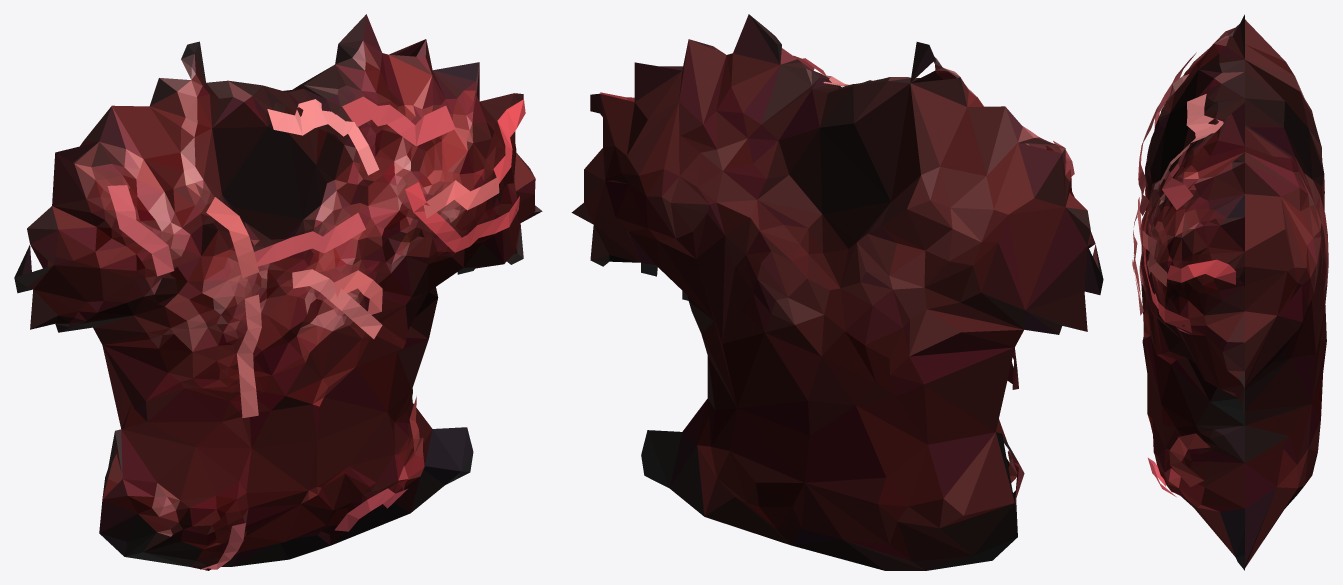
3 renders of one model, left to right at view 1: azimuth 30°, elevation 25°; view 2: azimuth 150°, elevation 25°; view 3: azimuth 270°, elevation 25°, orthographic. The views are drawn at different scales.
Parts seen in each view (by area): view 1: object 2, detail; view 2: object 2; view 3: object 2, detail.
Part boxes in pixels (bbox=[...]): object 2: bbox=[14, 14, 542, 570]; detail: bbox=[107, 96, 525, 569]; object 2: bbox=[571, 14, 1103, 570]; object 2: bbox=[1139, 14, 1328, 570]; detail: bbox=[1132, 52, 1235, 496].
Bounding box in the file's own units: 168 × 162 × 61.75.
